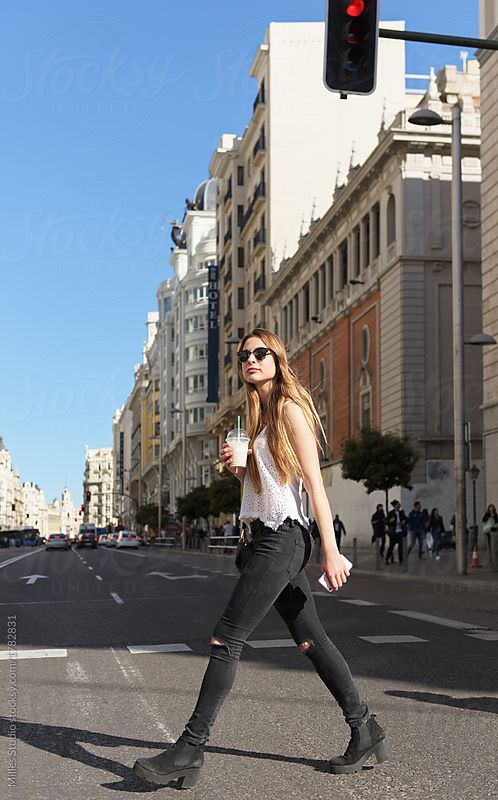person: (112, 327, 408, 793), (405, 498, 428, 563), (366, 499, 390, 561), (477, 499, 498, 567), (422, 507, 449, 558), (387, 498, 405, 559)
